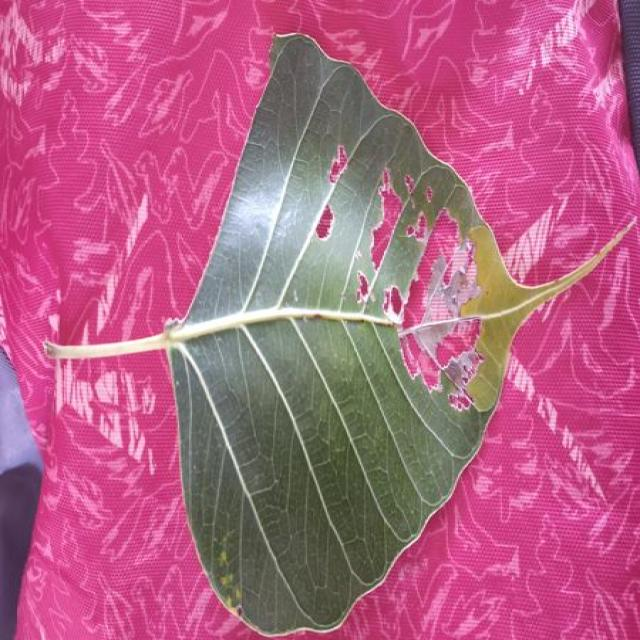arali: (45, 35, 633, 634)
disease in leaf: (45, 35, 632, 634)
